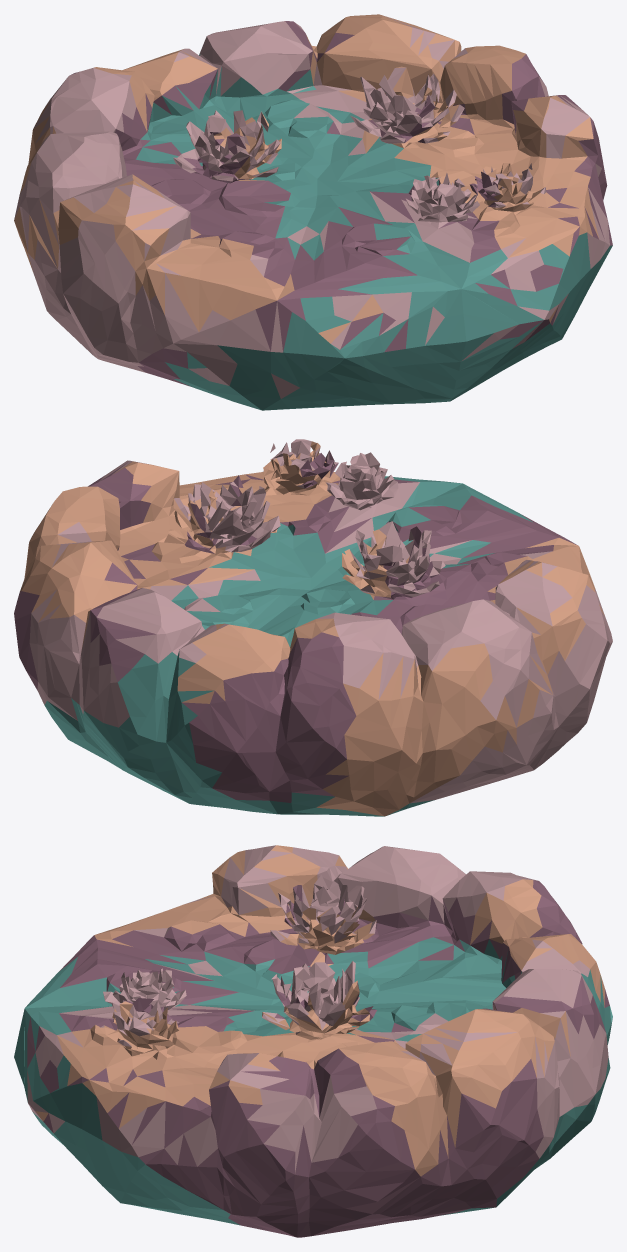
Rendered from lilypad.glb.
3 renders of one model, top to bottom at view 1: azimuth 30°, elevation 25°; view 2: azimuth 150°, elevation 25°; view 3: azimuth 270°, elevation 25°, orthographic.
Visible parts, largest first — view 1: geometry_0; view 2: geometry_0; view 3: geometry_0.
Boxes of the visible parts, x1,y1,x2,y2 form: geometry_0: (14, 14, 612, 410); geometry_0: (14, 439, 612, 816); geometry_0: (14, 845, 612, 1237).
Bounding box in the file's own units: 1.99 × 0.8729 × 1.97.
